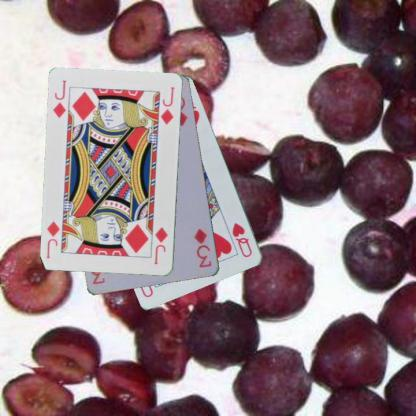3d: (191, 226, 213, 269)
Jd: (50, 78, 68, 119), (152, 225, 169, 266)
Qh: (229, 220, 254, 259)
